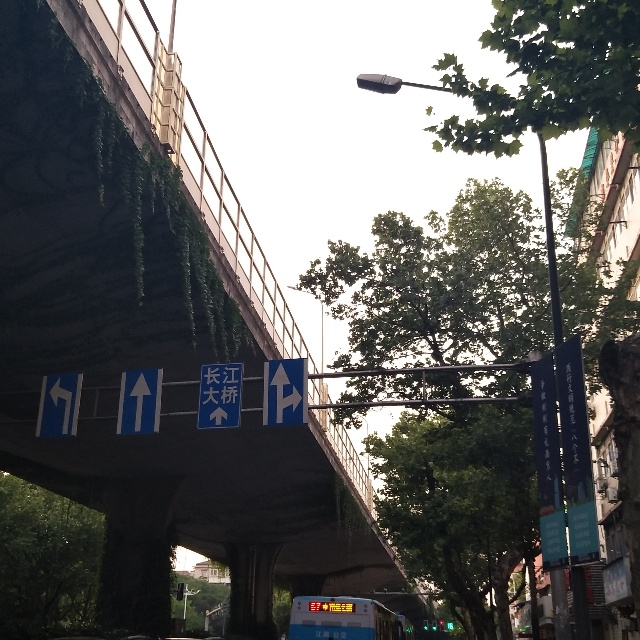left: (36, 373, 83, 439)
straight: (116, 368, 162, 436)
